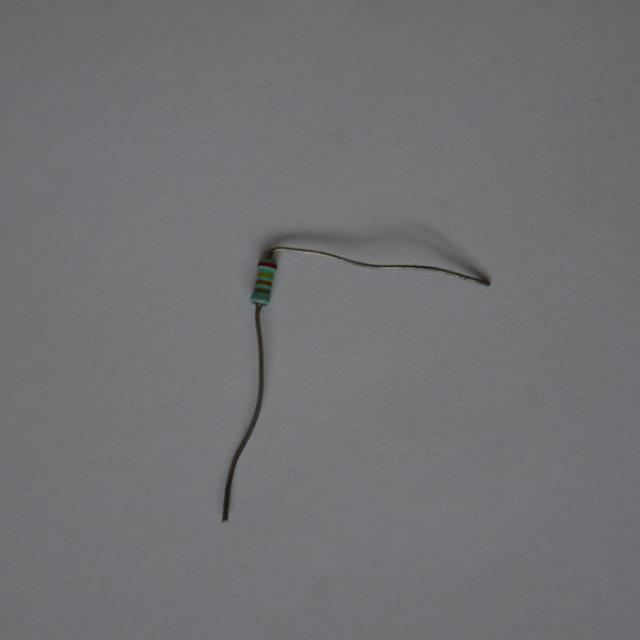gold: (255, 287, 270, 293)
orange: (257, 280, 272, 285)
red: (257, 262, 277, 268)
resistor: (243, 253, 283, 312)
yellow: (257, 272, 274, 277)
